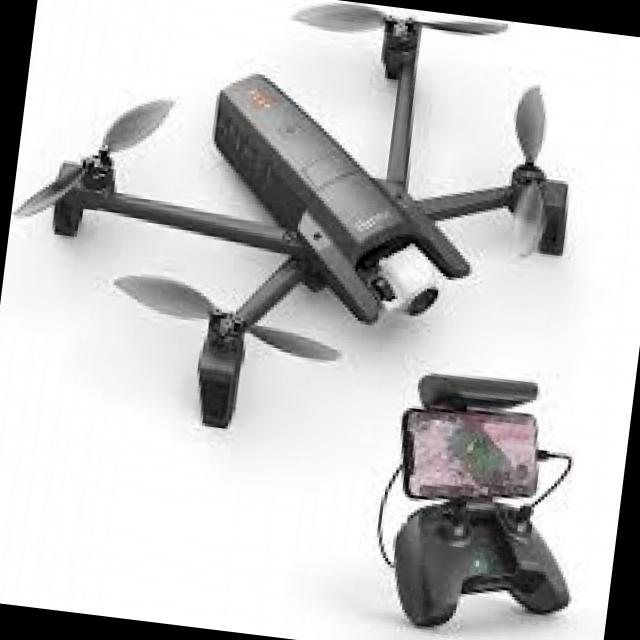drone: (0, 0, 606, 483)
